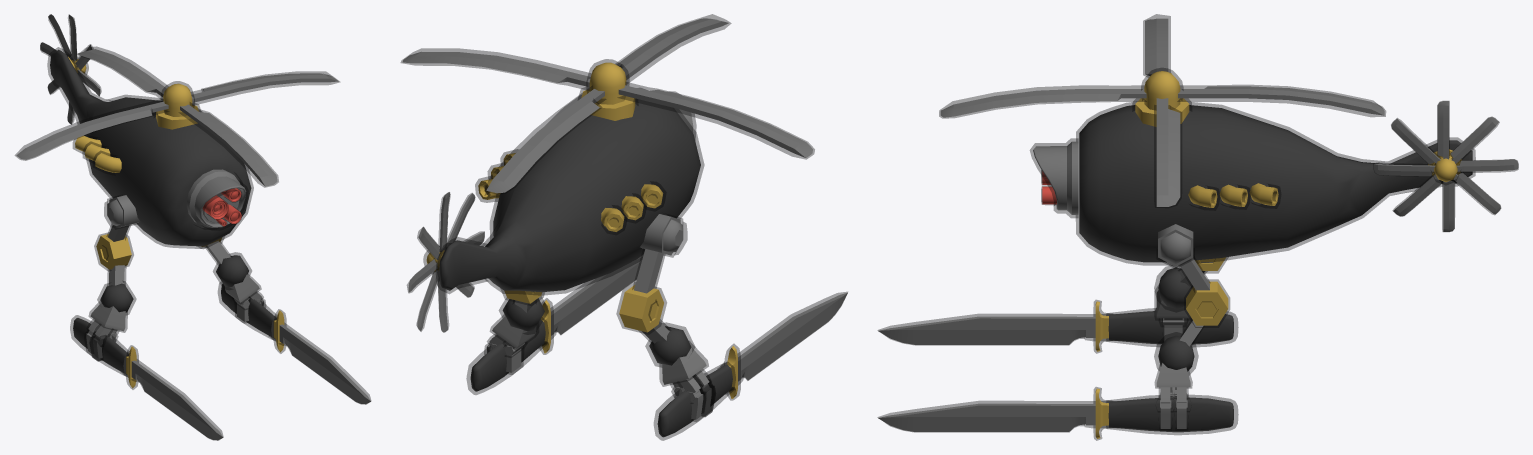
Rendered from danger flyboi 2 toon.fbx.
3 views of the same model, side by side, from view 1: azimuth 30°, elevation 25°; view 2: azimuth 150°, elevation 25°; view 3: azimuth 270°, elevation 25° (orthographic). The views are drawn at different scales.
Parts seen in each view (by area): view 1: main_body2835, Robo_arms, top_rotar, Robo_arms5, top_rotar3, main_body2836, rear_rotar; view 2: main_body2835, Robo_arms, top_rotar, Robo_arms5, top_rotar3, main_body2836, rear_rotar, rear_rotar3; view 3: main_body2835, Robo_arms, top_rotar, rear_rotar, Robo_arms5, main_body2836, top_rotar3, rear_rotar3.
Boxes of the visible parts, x1,y1,x2,y2 form: main_body2835: [50, 49, 251, 246]; Robo_arms: [73, 195, 370, 440]; top_rotar: [16, 49, 338, 186]; Robo_arms5: [70, 195, 371, 440]; top_rotar3: [15, 46, 339, 187]; main_body2836: [47, 47, 253, 248]; rear_rotar: [40, 14, 100, 124]; main_body2835: [426, 62, 700, 292]; Robo_arms: [470, 214, 847, 437]; top_rotar: [402, 18, 812, 193]; Robo_arms5: [466, 213, 847, 440]; top_rotar3: [400, 14, 814, 194]; main_body2836: [423, 59, 704, 295]; rear_rotar: [408, 192, 484, 332]; rear_rotar3: [407, 192, 484, 332]; main_body2835: [1033, 71, 1472, 262]; Robo_arms: [878, 224, 1233, 438]; top_rotar: [940, 18, 1384, 206]; rear_rotar: [1374, 101, 1518, 231]; Robo_arms5: [877, 248, 1238, 440]; main_body2836: [1030, 68, 1475, 265]; top_rotar3: [939, 14, 1385, 207]; rear_rotar3: [1373, 101, 1518, 231].
Bounding box in the file's own units: 16.5 × 13.3 × 23.67.
